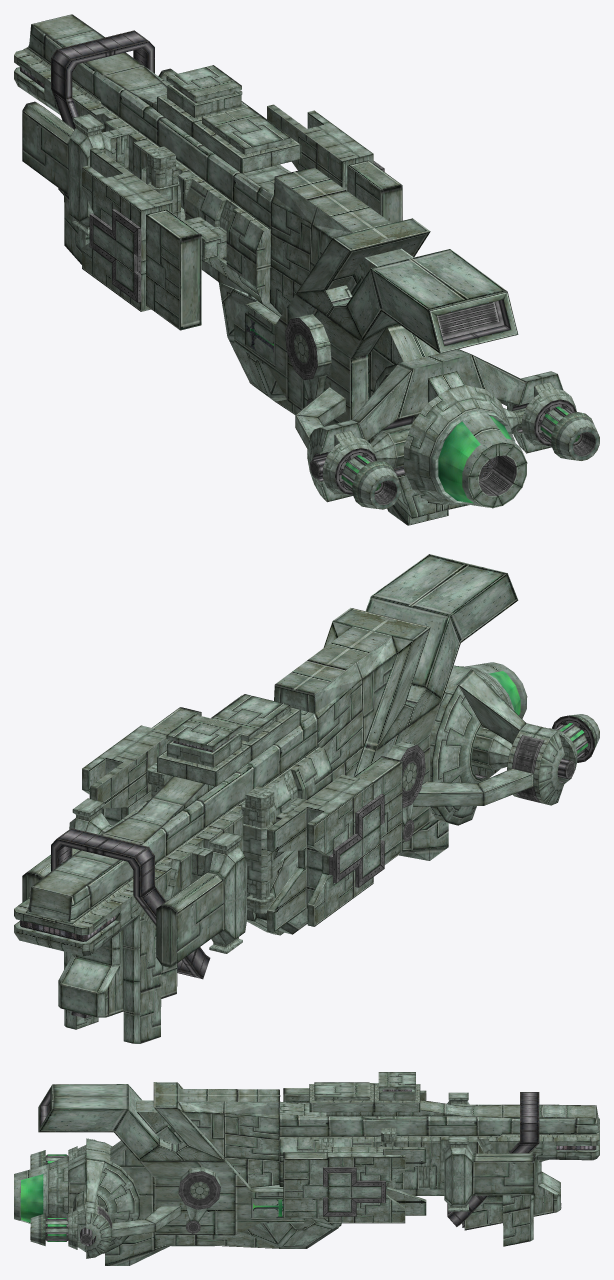
File: rh cap.obj
The picture shows the model from 3 angles, top to bottom: view 1: azimuth 30°, elevation 25°; view 2: azimuth 150°, elevation 25°; view 3: azimuth 270°, elevation 25°; orthographic projection. The views are drawn at different scales.
Parts seen in each view (by area): view 1: cube1_cop9; view 2: cube1_cop9; view 3: cube1_cop9.
Boxes of the visible parts, x1,y1,x2,y2 form: cube1_cop9: (14, 14, 599, 525); cube1_cop9: (14, 554, 599, 1043); cube1_cop9: (14, 1072, 599, 1265).
Size of the model in its own units: 30.41 by 31.27 by 92.33.
Materials: 7 (6 with a texture image).
